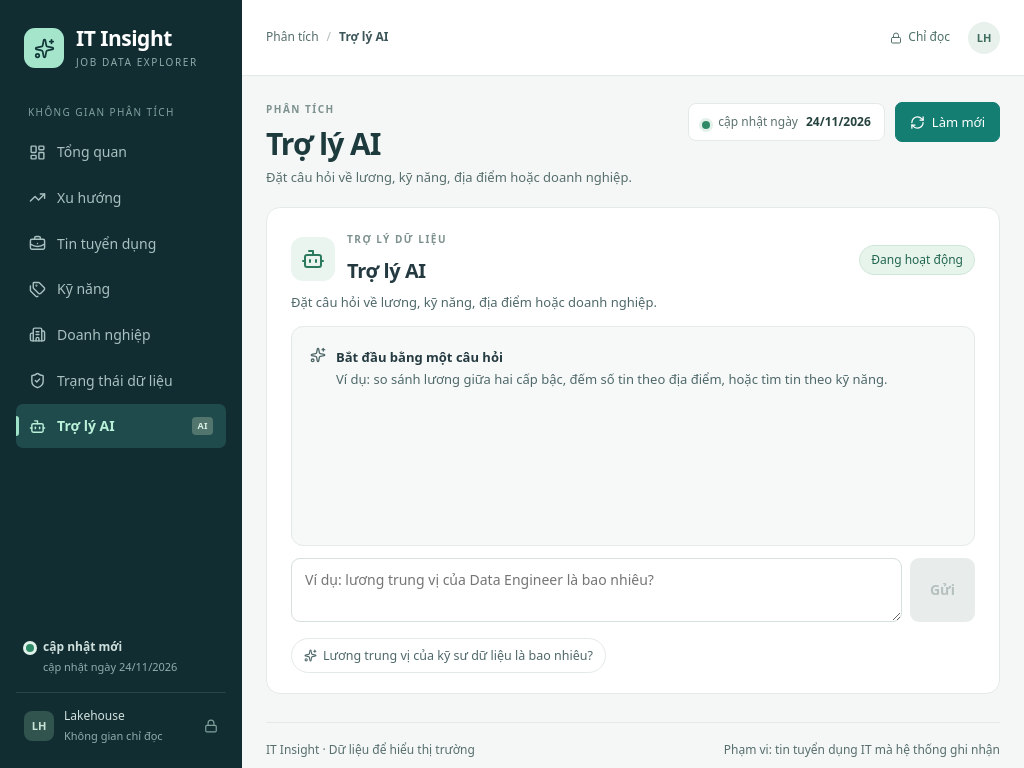
it: assistant rendering (stubbed API) › offers cancel while waiting and frees the input afterwards
Later steps or results of the test are not shown.
Type "câu hỏi chậm" into the text box named "Câu hỏi cho trợ lý AI". click: (596, 590)
box: [291,558,902,622]
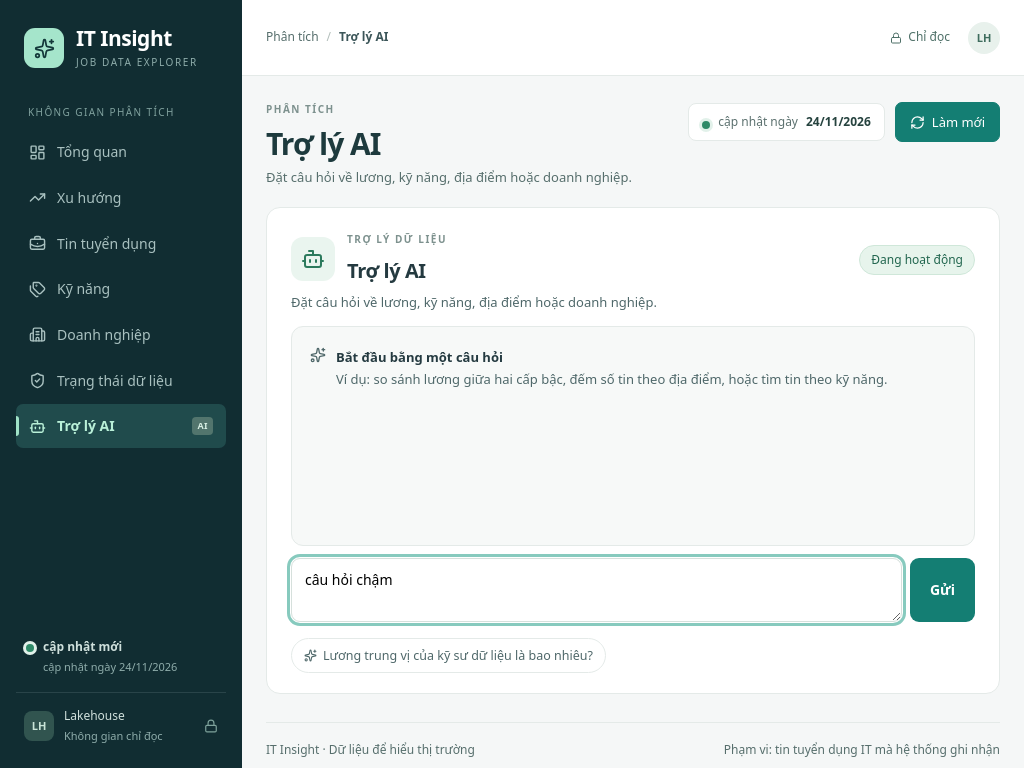
Click the button "Gửi". click: (942, 590)
box: [910,558,975,622]
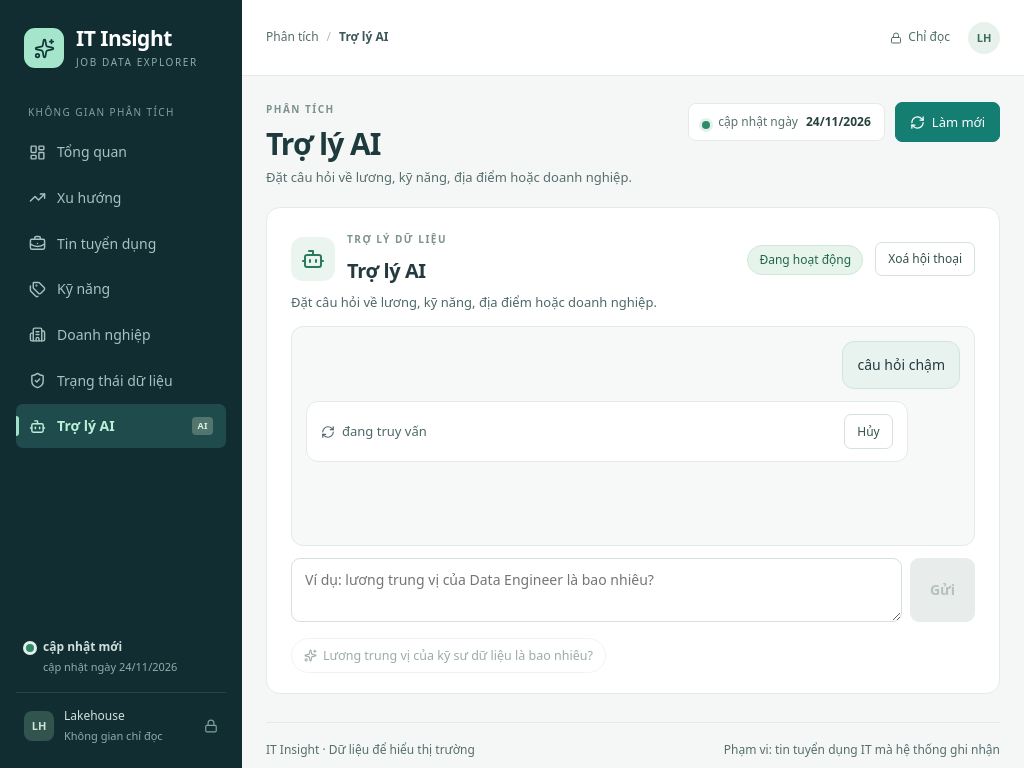
Result: the text "đang truy vấn" is shown at [321,421,427,442]
